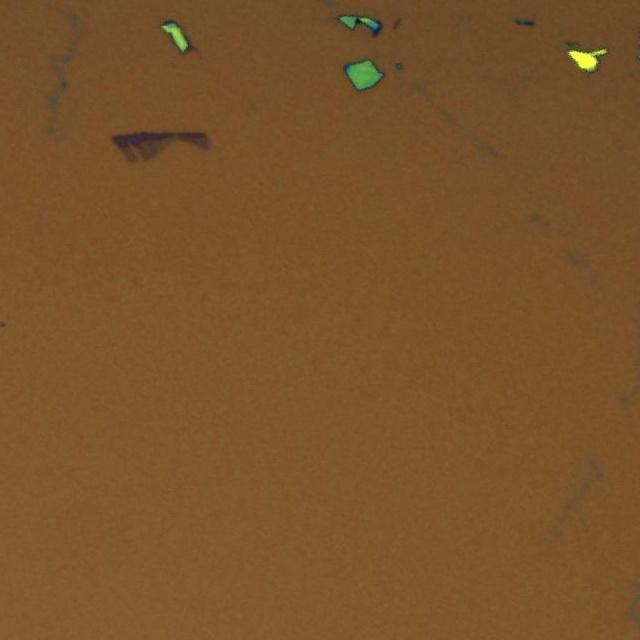monolayer-eWW4: (117, 136, 175, 166)
